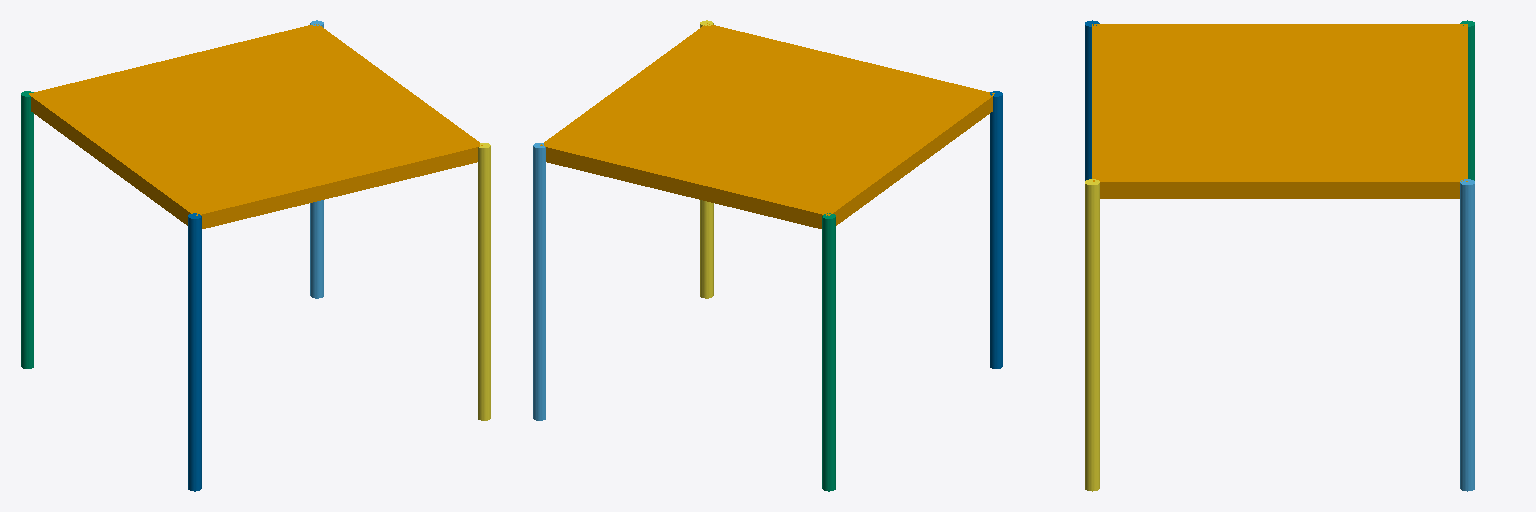
URDF robot description (table):
<?xml version="1.0" ?>
<!-- =================================================================================== -->
<!-- |    This document was autogenerated by xacro from table.urdf.xacro               | -->
<!-- |    EDITING THIS FILE BY HAND IS NOT RECOMMENDED                                 | -->
<!-- =================================================================================== -->
<robot name="table" xmlns:xacro="http://www.ros.org/wiki/xacro">
  <!-- tabletop height is .55+.01+.025=.585 -->
  <link name="table_top_link">
    <inertial>
      <mass value="1.0"/>
      <origin xyz="0.0 0.0 0.875"/>
      <inertia ixx="1" ixy="0" ixz="0" iyy="1" iyz="0" izz="1"/>
    </inertial>
    <visual>
      <origin xyz="0.0 0.0 0.875"/>
      <geometry>
        <box size="1.0 1.0 0.05"/>
      </geometry>
    </visual>
    <collision>
      <origin xyz="0.0 0.0 0.875"/>
      <geometry>
        <box size="1.0 1.0 0.05"/>
      </geometry>
    </collision>
  </link>
  <gazebo reference="table_top_link">
    <material>Gazebo/Wood</material>
    <mu1>50.0</mu1>
    <mu2>50.0</mu2>
    <kp>1000000.0</kp>
    <kd>1.0</kd>
  </gazebo>
  <joint name="leg1_joint" type="fixed">
    <parent link="table_top_link"/>
    <origin rpy="0 0 0" xyz="0.5 0.5 0.9"/>
    <child link="leg1_link"/>
  </joint>
  <link name="leg1_link">
    <inertial>
      <mass value="1.0"/>
      <origin xyz="0 0 -0.45"/>
      <inertia ixx="0.1" ixy="0" ixz="0" iyy="0.1" iyz="0" izz="0.01"/>
    </inertial>
    <visual>
      <origin rpy="0 0 0" xyz="0.0 0.0 -0.45"/>
      <geometry>
        <cylinder length="0.9" radius="0.02"/>
      </geometry>
    </visual>
    <collision>
      <origin rpy="0.0 0.0 0.0" xyz="0.0 0.0 -0.45"/>
      <geometry>
        <cylinder length="0.9" radius="0.02"/>
      </geometry>
    </collision>
  </link>
  <gazebo reference="leg1_link">
    <material>Gazebo/Red</material>
    <mu1>1000.0</mu1>
    <mu2>1000.0</mu2>
    <kp>10000000.0</kp>
    <kd>1.0</kd>
  </gazebo>
  <joint name="leg2_joint" type="fixed">
    <parent link="table_top_link"/>
    <origin rpy="0 0 0" xyz="-0.5 0.5 0.9"/>
    <child link="leg2_link"/>
  </joint>
  <link name="leg2_link">
    <inertial>
      <mass value="1.0"/>
      <origin xyz="0 0 -0.45"/>
      <inertia ixx="0.1" ixy="0" ixz="0" iyy="0.1" iyz="0" izz="0.01"/>
    </inertial>
    <visual>
      <origin rpy="0 0 0" xyz="0.0 0.0 -0.45"/>
      <geometry>
        <cylinder length="0.9" radius="0.02"/>
      </geometry>
    </visual>
    <collision>
      <origin rpy="0.0 0.0 0.0" xyz="0.0 0.0 -0.45"/>
      <geometry>
        <cylinder length="0.9" radius="0.02"/>
      </geometry>
    </collision>
  </link>
  <gazebo reference="leg2_link">
    <material>Gazebo/Red</material>
    <mu1>1000.0</mu1>
    <mu2>1000.0</mu2>
    <kp>10000000.0</kp>
    <kd>1.0</kd>
  </gazebo>
  <joint name="leg3_joint" type="fixed">
    <parent link="table_top_link"/>
    <origin rpy="0 0 0" xyz="0.5 -0.5 0.9"/>
    <child link="leg3_link"/>
  </joint>
  <link name="leg3_link">
    <inertial>
      <mass value="1.0"/>
      <origin xyz="0 0 -0.45"/>
      <inertia ixx="0.1" ixy="0" ixz="0" iyy="0.1" iyz="0" izz="0.01"/>
    </inertial>
    <visual>
      <origin rpy="0 0 0" xyz="0.0 0.0 -0.45"/>
      <geometry>
        <cylinder length="0.9" radius="0.02"/>
      </geometry>
    </visual>
    <collision>
      <origin rpy="0.0 0.0 0.0" xyz="0.0 0.0 -0.45"/>
      <geometry>
        <cylinder length="0.9" radius="0.02"/>
      </geometry>
    </collision>
  </link>
  <gazebo reference="leg3_link">
    <material>Gazebo/Red</material>
    <mu1>1000.0</mu1>
    <mu2>1000.0</mu2>
    <kp>10000000.0</kp>
    <kd>1.0</kd>
  </gazebo>
  <joint name="leg4_joint" type="fixed">
    <parent link="table_top_link"/>
    <origin rpy="0 0 0" xyz="-0.5 -0.5 0.9"/>
    <child link="leg4_link"/>
  </joint>
  <link name="leg4_link">
    <inertial>
      <mass value="1.0"/>
      <origin xyz="0 0 -0.45"/>
      <inertia ixx="0.1" ixy="0" ixz="0" iyy="0.1" iyz="0" izz="0.01"/>
    </inertial>
    <visual>
      <origin rpy="0 0 0" xyz="0.0 0.0 -0.45"/>
      <geometry>
        <cylinder length="0.9" radius="0.02"/>
      </geometry>
    </visual>
    <collision>
      <origin rpy="0.0 0.0 0.0" xyz="0.0 0.0 -0.45"/>
      <geometry>
        <cylinder length="0.9" radius="0.02"/>
      </geometry>
    </collision>
  </link>
  <gazebo reference="leg4_link">
    <material>Gazebo/Red</material>
    <mu1>1000.0</mu1>
    <mu2>1000.0</mu2>
    <kp>10000000.0</kp>
    <kd>1.0</kd>
  </gazebo>
  <gazebo>
    <static>true</static>
    <canonicalBody>table_top_link</canonicalBody>
  </gazebo>
</robot>

--- Facts derived from the render (not from the file) ---
The picture shows the robot from 3 angles, left to right: view 1: azimuth 30°, elevation 25°; view 2: azimuth 150°, elevation 25°; view 3: azimuth 270°, elevation 25°; orthographic projection.
Robot: table — 5 links, 4 joints (4 fixed); root link table_top_link; default pose: every joint at zero.
Visible links, largest first — view 1: table_top_link, leg4_link, leg3_link, leg2_link, leg1_link; view 2: table_top_link, leg2_link, leg1_link, leg4_link, leg3_link; view 3: table_top_link, leg1_link, leg3_link, leg4_link, leg2_link.
Link boxes in pixels (box(x1,y1,x2,y2)): table_top_link: box(29, 24, 482, 228); leg4_link: box(188, 213, 201, 491); leg3_link: box(478, 143, 490, 420); leg2_link: box(21, 91, 33, 368); leg1_link: box(310, 20, 323, 298); table_top_link: box(540, 23, 994, 228); leg2_link: box(822, 213, 835, 491); leg1_link: box(533, 143, 545, 420); leg4_link: box(990, 91, 1002, 368); leg3_link: box(700, 20, 713, 298); table_top_link: box(1092, 24, 1467, 198); leg1_link: box(1460, 179, 1474, 491); leg3_link: box(1085, 179, 1099, 491); leg4_link: box(1085, 20, 1099, 180); leg2_link: box(1460, 20, 1474, 180).
Size in the robot's own frame: 1.04 by 1.04 by 0.9 metres.
Geometry: primitives only (box / cylinder / sphere), no mesh files.